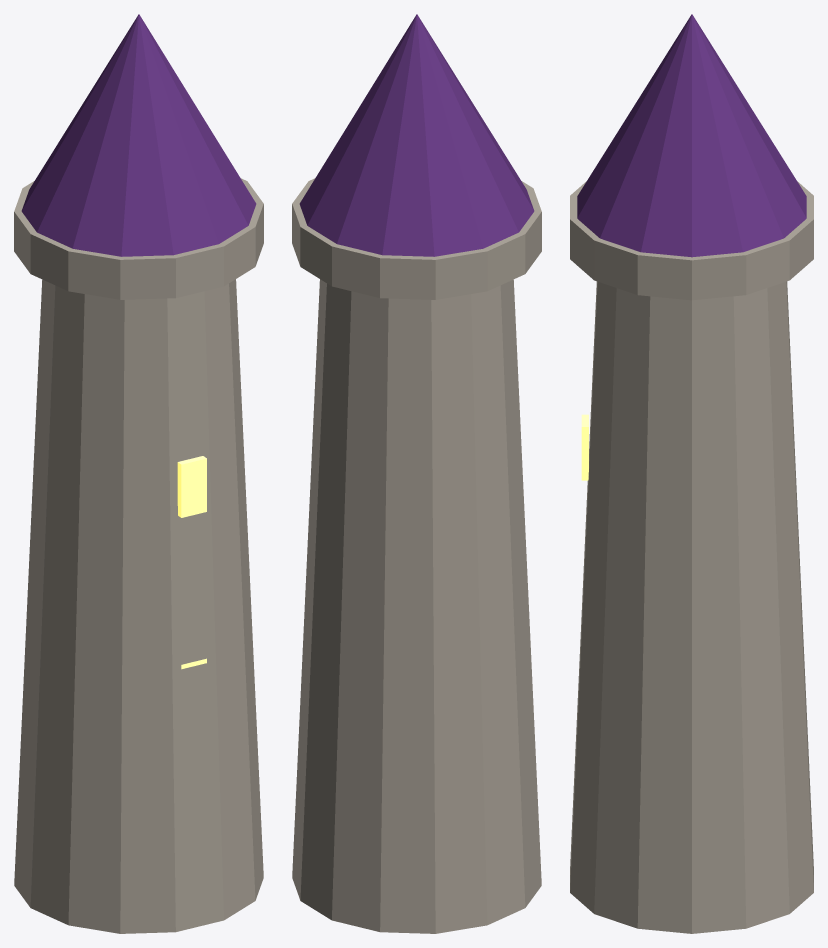
The model's file is lm_tower.glb.
The picture shows the model from 3 angles, left to right: view 1: azimuth 30°, elevation 25°; view 2: azimuth 150°, elevation 25°; view 3: azimuth 270°, elevation 25°; orthographic projection.
Parts seen in each view (by area): view 1: tower, cone, ring, win.001; view 2: tower, cone, ring; view 3: tower, cone, ring, win.001.
Part boxes in pixels (x1,y1,x2,y2): tower: [14, 279, 263, 933]; cone: [21, 14, 256, 256]; ring: [14, 178, 263, 299]; win.001: [177, 456, 206, 517]; tower: [292, 279, 541, 933]; cone: [299, 14, 534, 256]; ring: [292, 178, 541, 299]; tower: [570, 281, 813, 933]; cone: [577, 14, 806, 257]; ring: [570, 181, 813, 300]; win.001: [581, 414, 588, 480].
Bounding box in the file's own units: 0.68 × 2.6 × 0.663.
